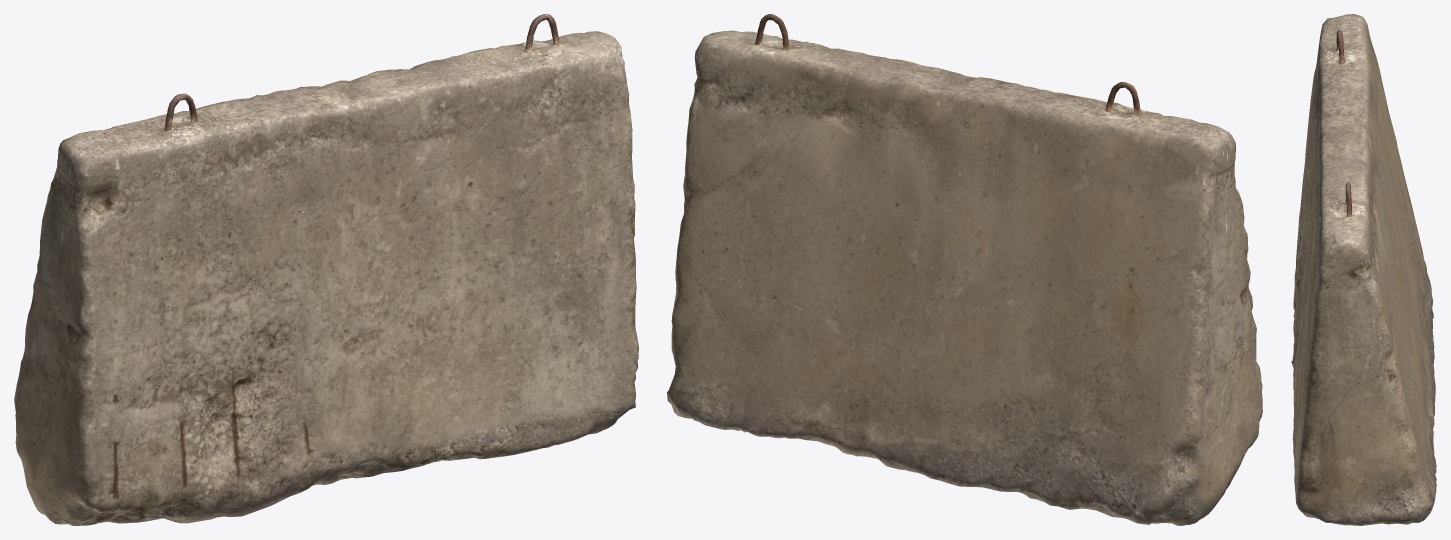
The model's file is concrete_road_barrier_02.glb.
The picture shows the model from 3 angles, left to right: view 1: azimuth 30°, elevation 25°; view 2: azimuth 150°, elevation 25°; view 3: azimuth 270°, elevation 25°; orthographic projection. The views are drawn at different scales.
Parts seen in each view (by area): view 1: concrete_road_barrier_02; view 2: concrete_road_barrier_02; view 3: concrete_road_barrier_02.
Part boxes in pixels (<box>): concrete_road_barrier_02: <box>14,14,638,525</box>; concrete_road_barrier_02: <box>667,14,1262,525</box>; concrete_road_barrier_02: <box>1291,14,1436,525</box>.
Size of the model in its own units: 1.57 by 1.11 by 0.4421.
1 material, 1 textured.
